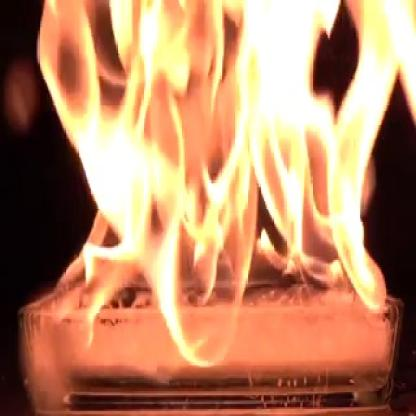fire: (34, 0, 416, 370)
